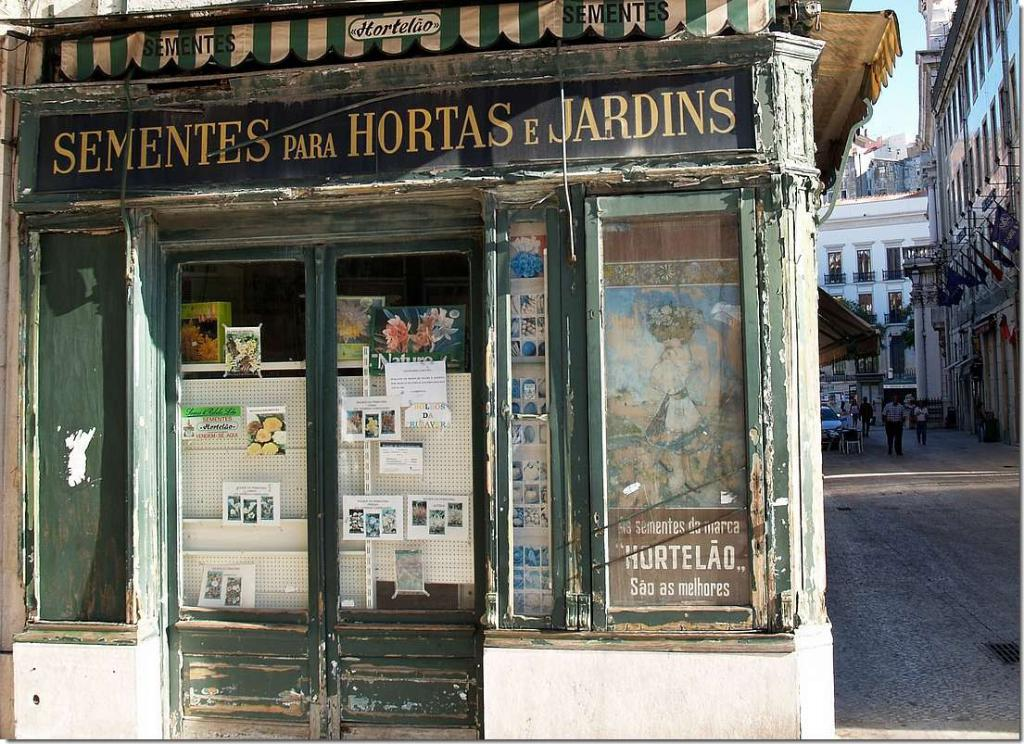door: (167, 260, 318, 744), (330, 249, 479, 722)
